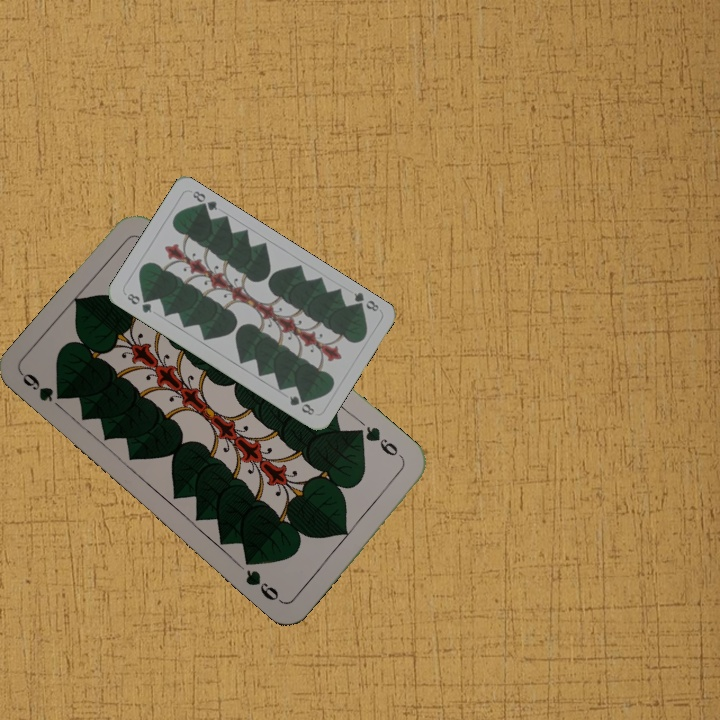G8: (349, 288, 381, 314), (123, 289, 154, 315)
G9: (355, 422, 407, 463), (18, 369, 66, 405)
